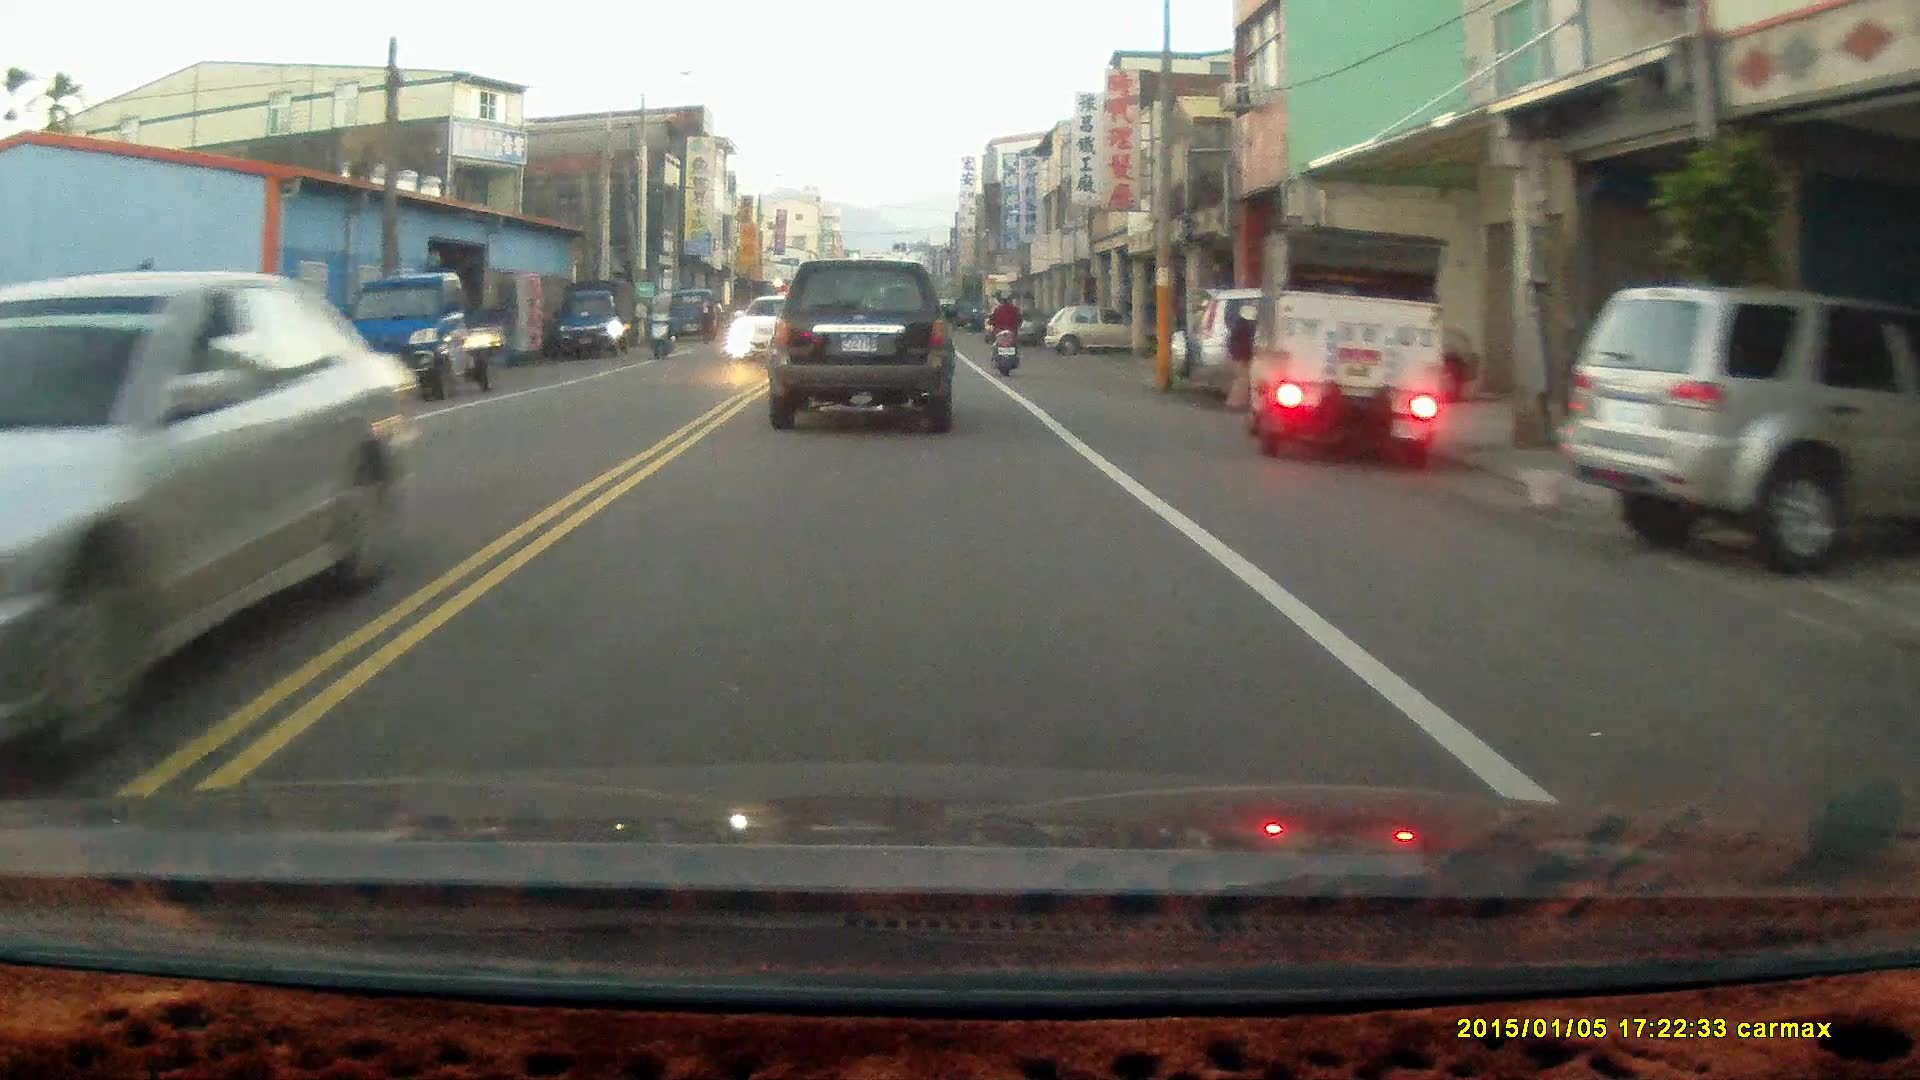pedestrian: (1221, 301, 1257, 412), (695, 295, 715, 344)
rider: (986, 282, 1023, 376), (645, 282, 678, 357)
vehicle: (1, 267, 423, 764), (1573, 282, 1920, 556), (1237, 222, 1452, 462), (1168, 277, 1488, 419), (767, 253, 959, 429), (334, 270, 508, 405), (553, 278, 641, 357), (1050, 305, 1130, 357)
